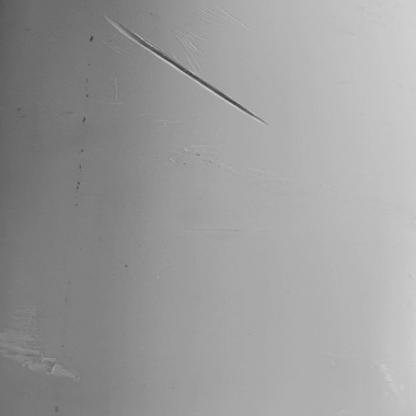sunshang: (107, 20, 268, 124), (1, 331, 76, 378)
